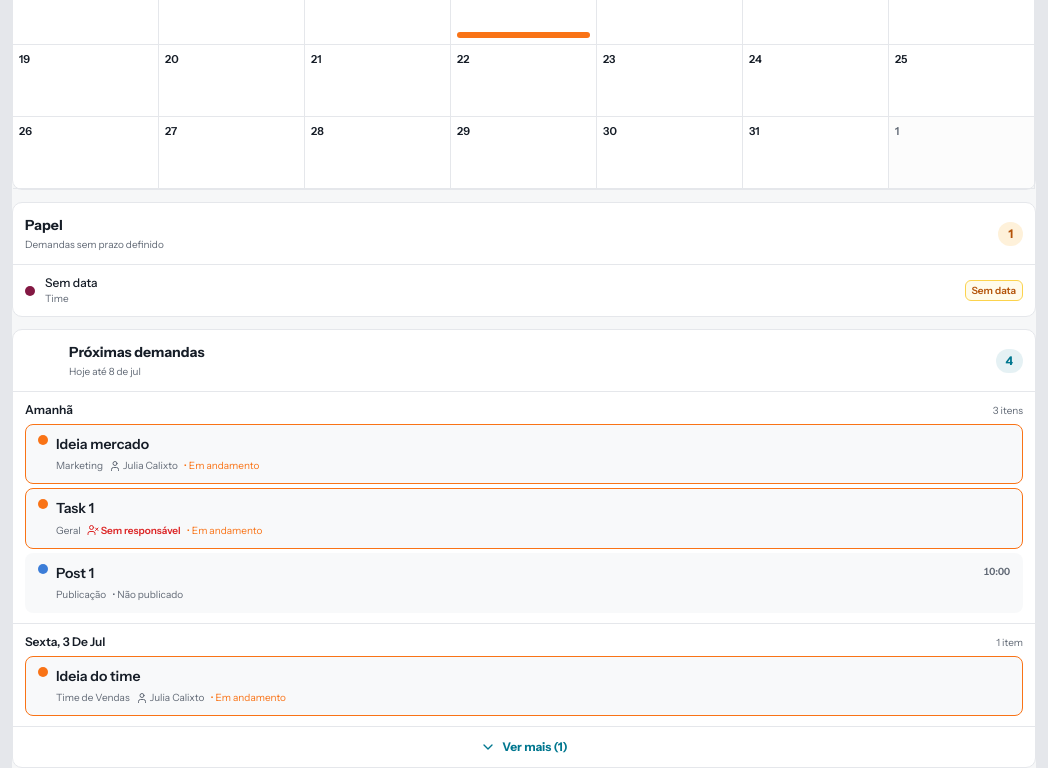
CalendarPage render › mostra primeiro o calendário e limita a lista inicial aos próximos sete dias
(page scrolled)
Check: the heading "Próximas demandas" is shown, box [69,342,204,362]
Check: the text "Ideia mercado" is shown, box [56,435,149,453]
Click the button "Ver mais (1)" at (524, 746), box [13,726,1035,767]
(page scrolled)
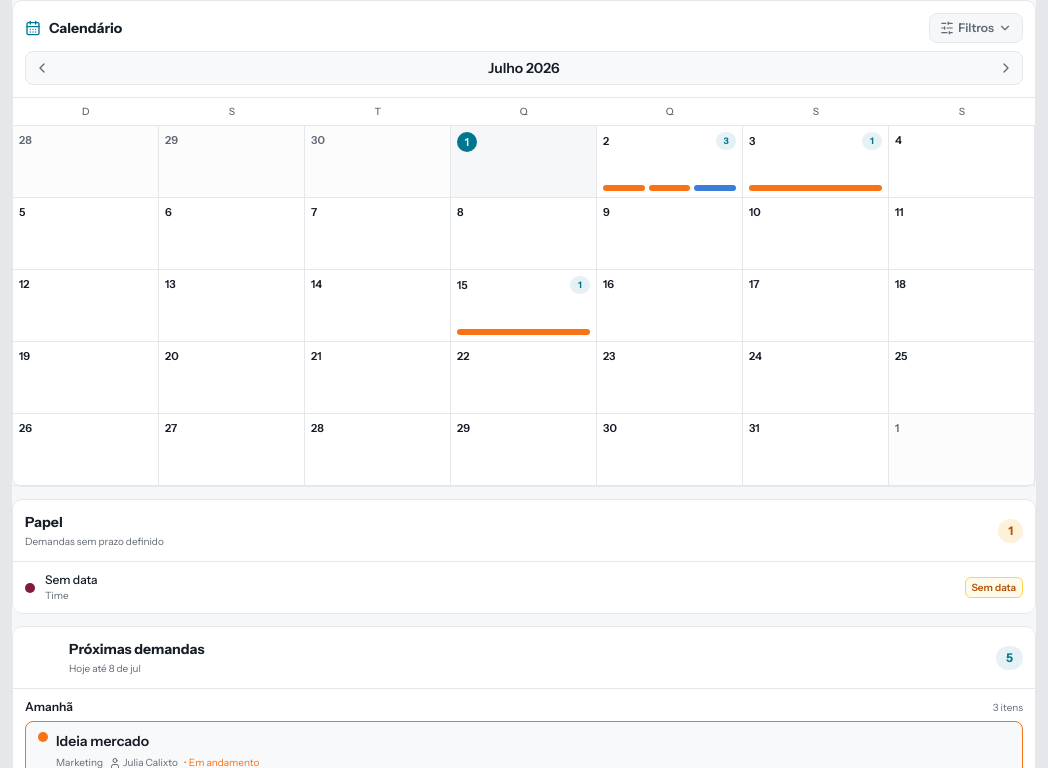
Click the button "Filtros" at (976, 28), box [929,13,1023,43]
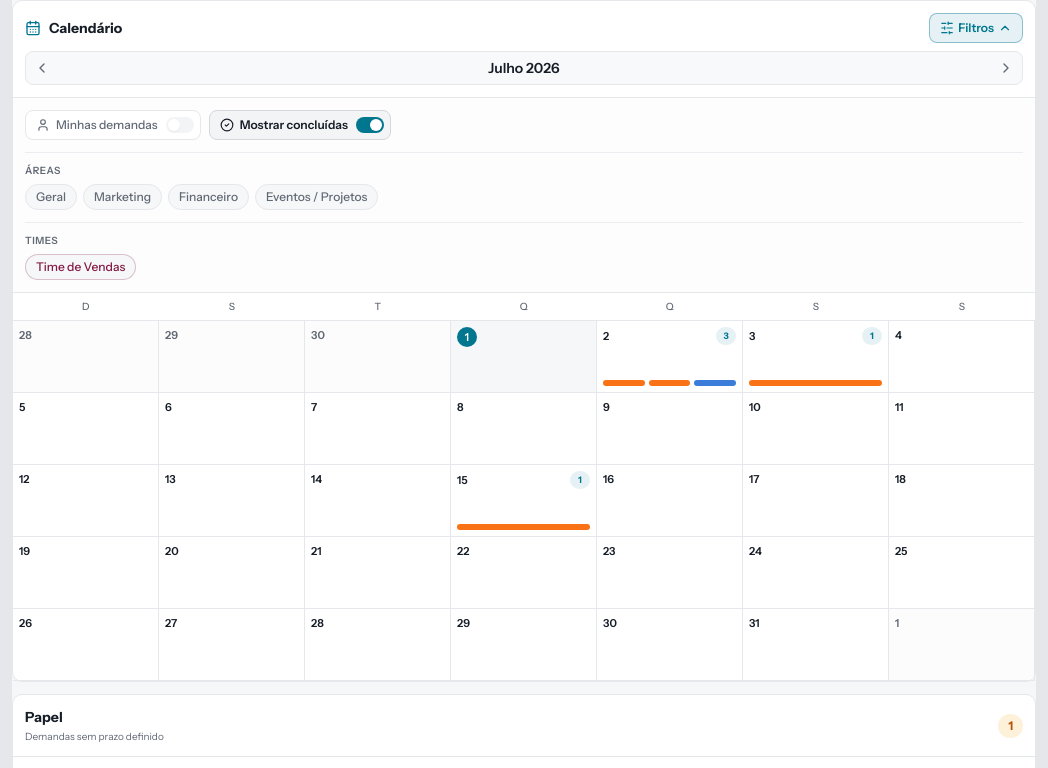
Check: the button "Filtros" is expanded, box [929,13,1023,43]
Check: the switch labelled "Minhas demandas" is shown, box [25,110,201,140]
